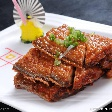hongshaodaiyu: (13, 24, 112, 104)
